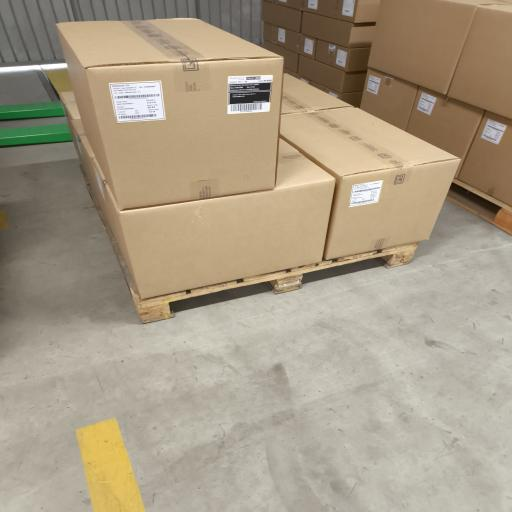pallet: (81, 166, 418, 323), (131, 243, 417, 323), (447, 179, 511, 234)
